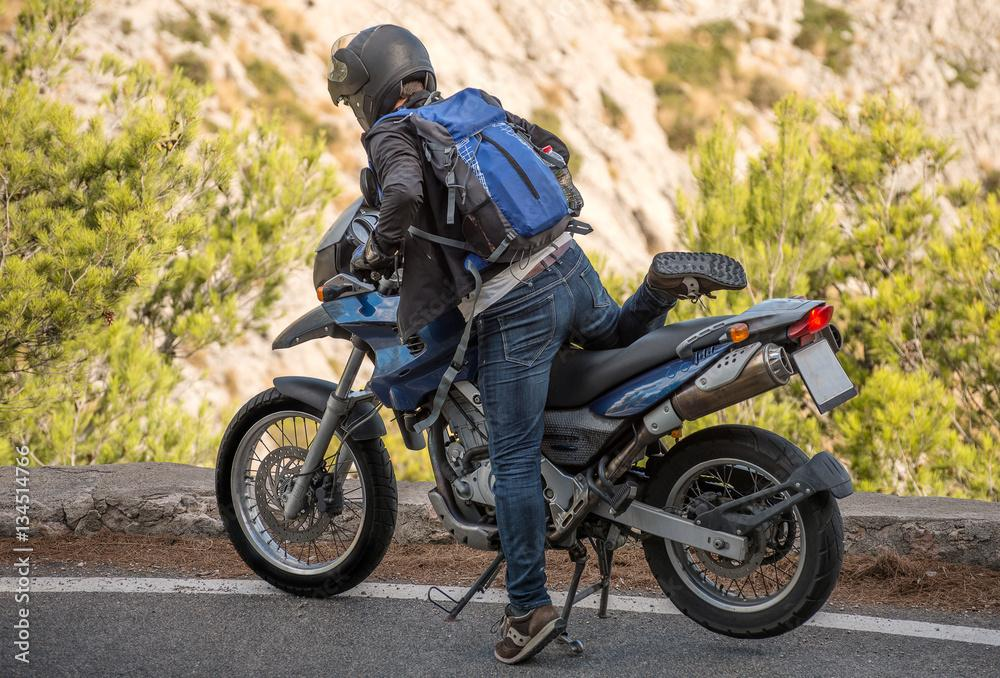helmet: (327, 23, 438, 136)
